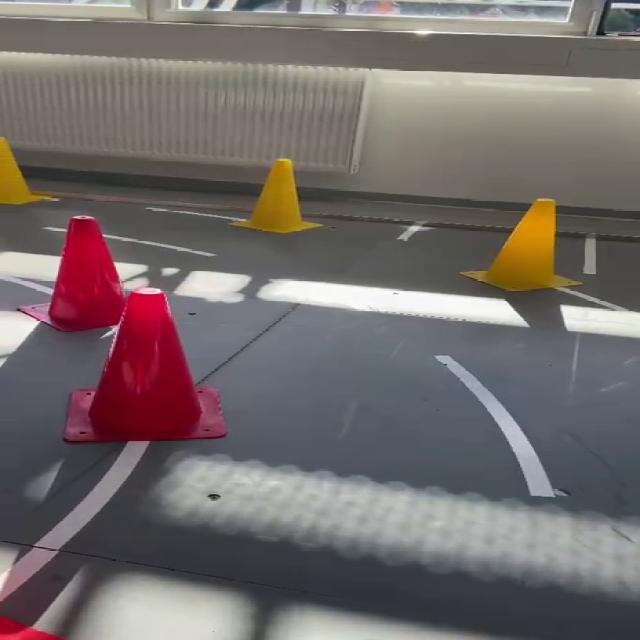Cone-red: (63, 288, 226, 442), (19, 216, 123, 332), (0, 618, 62, 639)
Cones-yellow: (461, 198, 579, 291), (233, 158, 320, 233), (0, 137, 54, 205)
